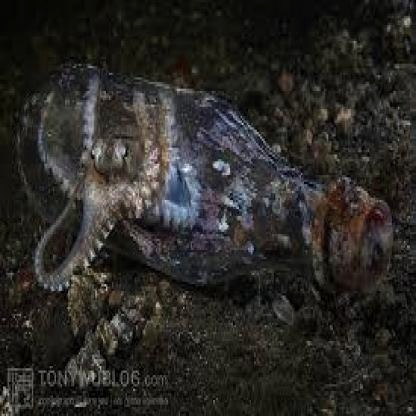gbottle: (18, 61, 396, 300)
